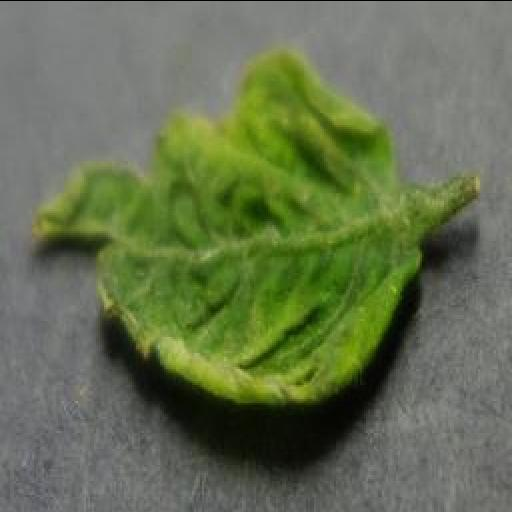disease_tomato: (26, 48, 422, 410)
